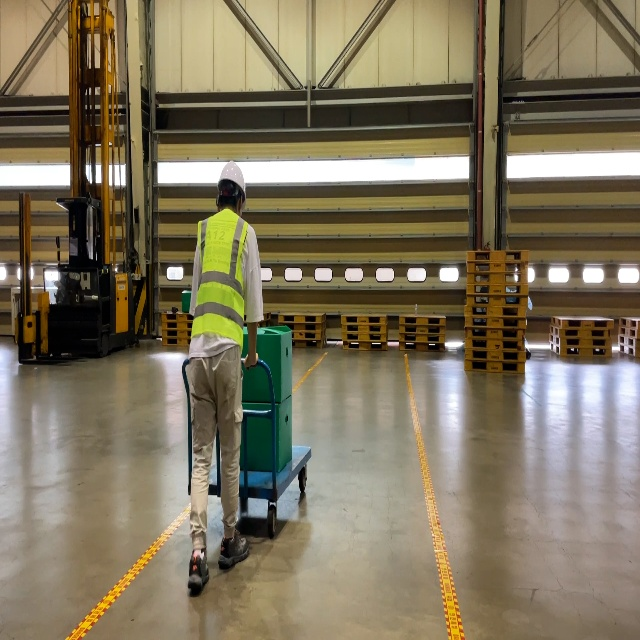Box: (240, 397, 293, 472), (242, 327, 293, 403)
Worker: (188, 161, 264, 591)
